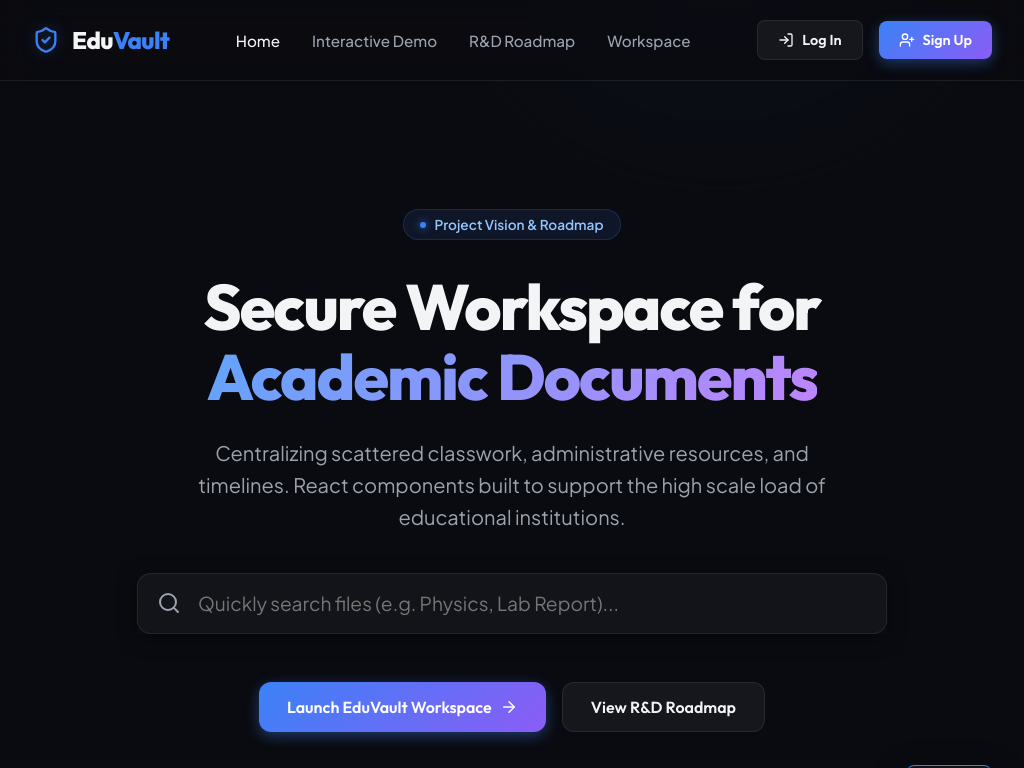
Test: EduVault App Rendering & Navigation tests › should display file action options matching reference image when clicking 3 dots on a file card
Note: Navigate to Workspace
Click the link "Workspace": point(649, 40) left=607, top=30, right=691, bottom=50
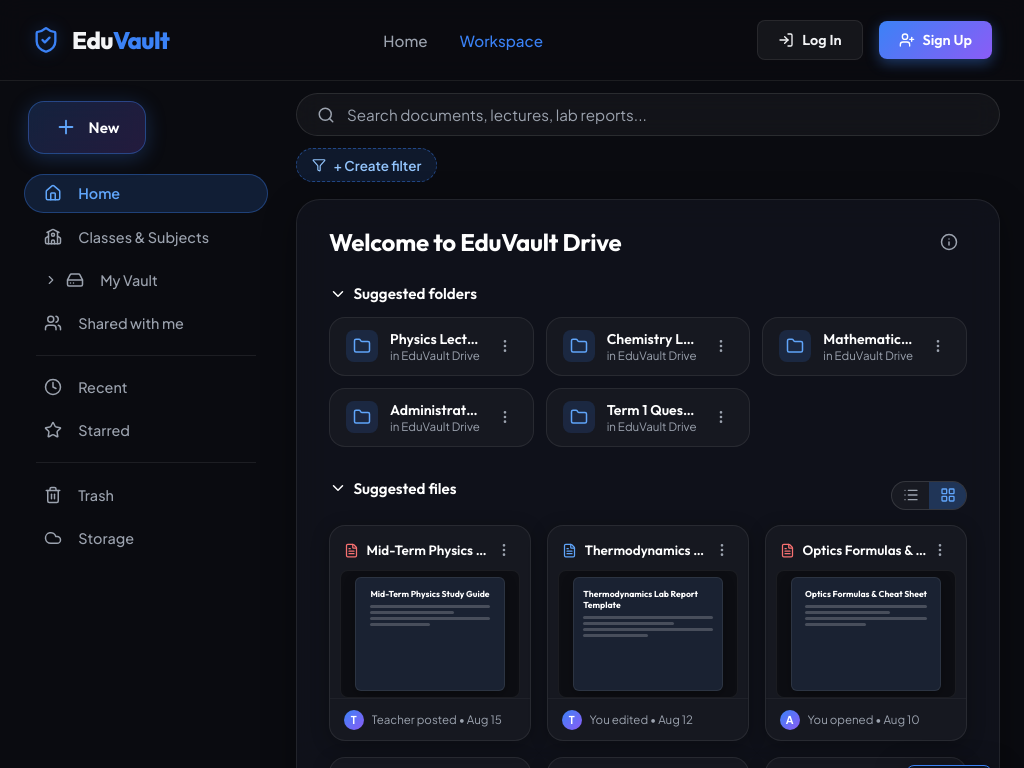
Result: the 1st button titled "More actions" is shown
Click the 1st button titled "More actions": point(504, 550) left=492, top=538, right=516, bottom=562
(page scrolled)
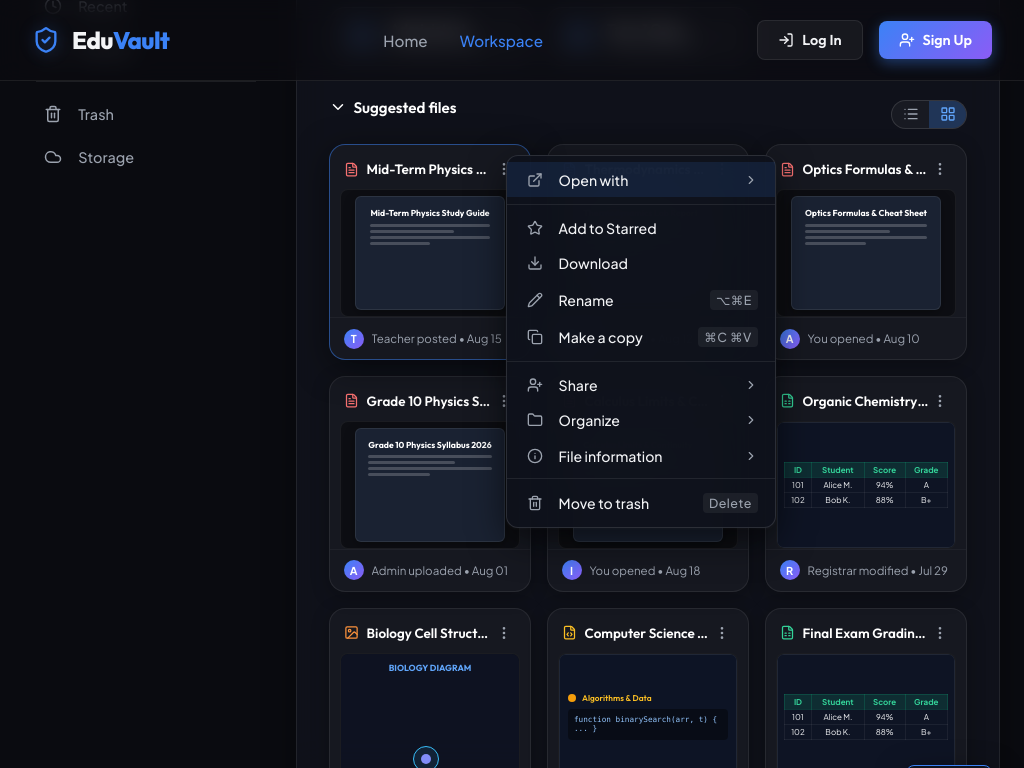
Result: the text "Open with" is shown at left=559, top=170, right=628, bottom=188
Result: the text "Download" is shown at left=559, top=254, right=628, bottom=272
Result: the text "Rename" is shown at left=559, top=291, right=614, bottom=309
Note: Click Share to test modal opening
Click the button "Share": point(578, 385) left=507, top=367, right=775, bottom=402
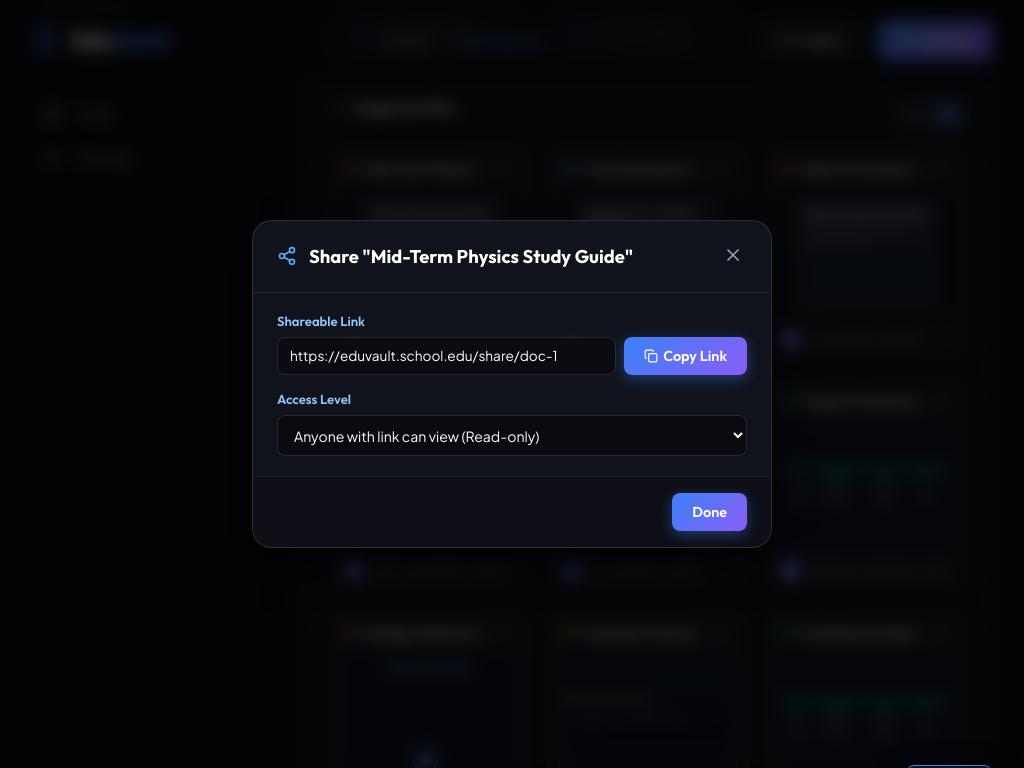
Result: the button "Copy Link" is shown at left=624, top=337, right=747, bottom=375
